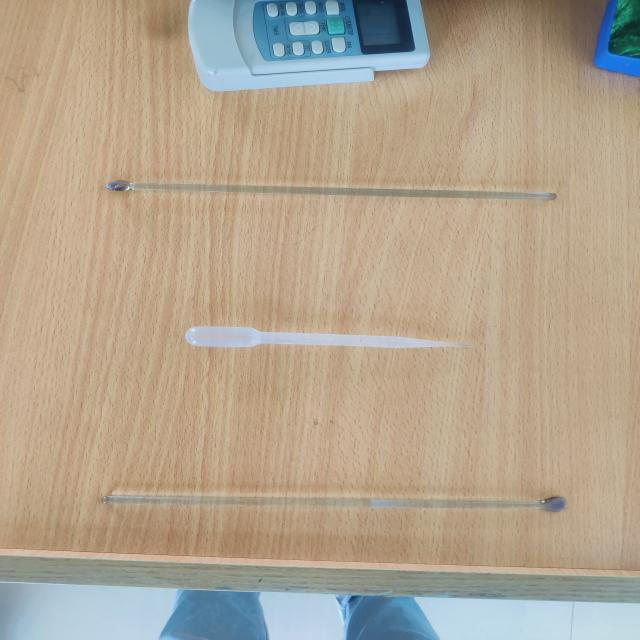Glass_Rod: (50, 455, 602, 555), (77, 152, 587, 243)
Pipette: (163, 295, 492, 376)
